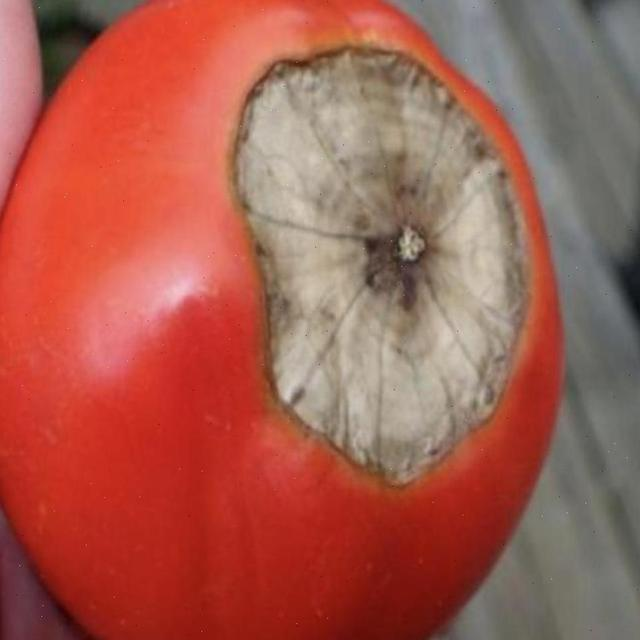Blossom End Rot Fruit: (149, 26, 360, 344)
